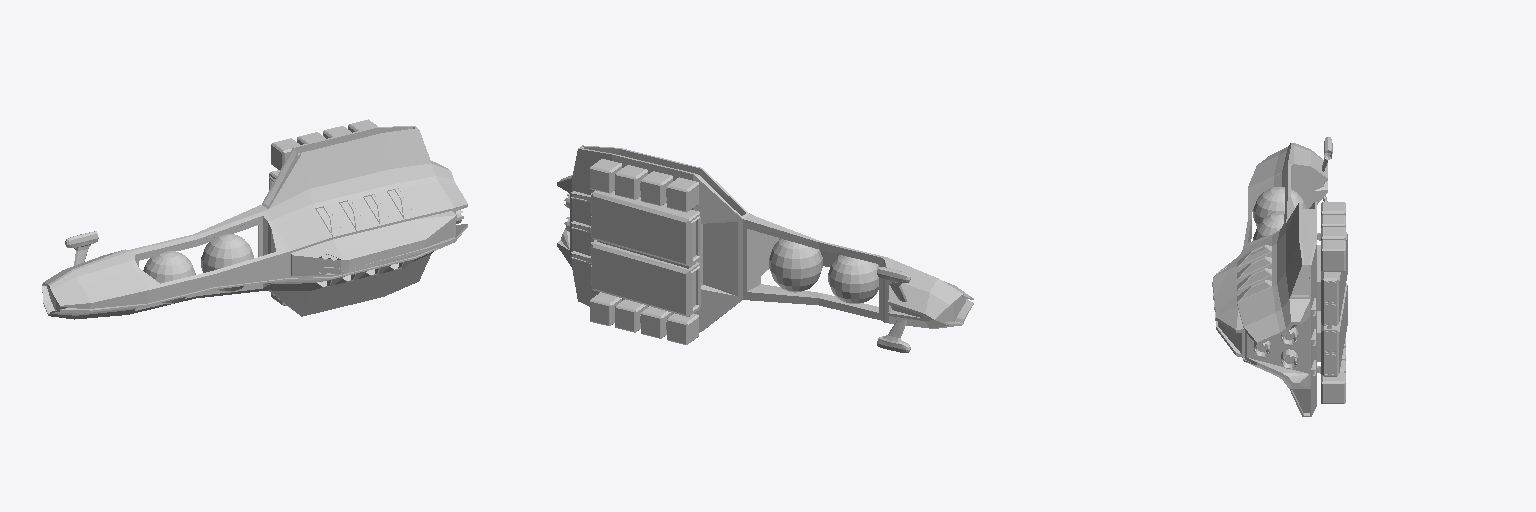
The model's file is mae arae.obj.
3 renders of one model, left to right at view 1: azimuth 30°, elevation 25°; view 2: azimuth 150°, elevation 25°; view 3: azimuth 270°, elevation 25°, orthographic.
Visible parts, largest first — view 1: Box05; view 2: Box05; view 3: Box05.
Part boxes in pixels (bbox=[...]): Box05: bbox=[42, 119, 467, 319]; Box05: bbox=[557, 145, 973, 352]; Box05: bbox=[1212, 137, 1347, 416].
Size of the model in its own units: 277 by 108 by 80.61.